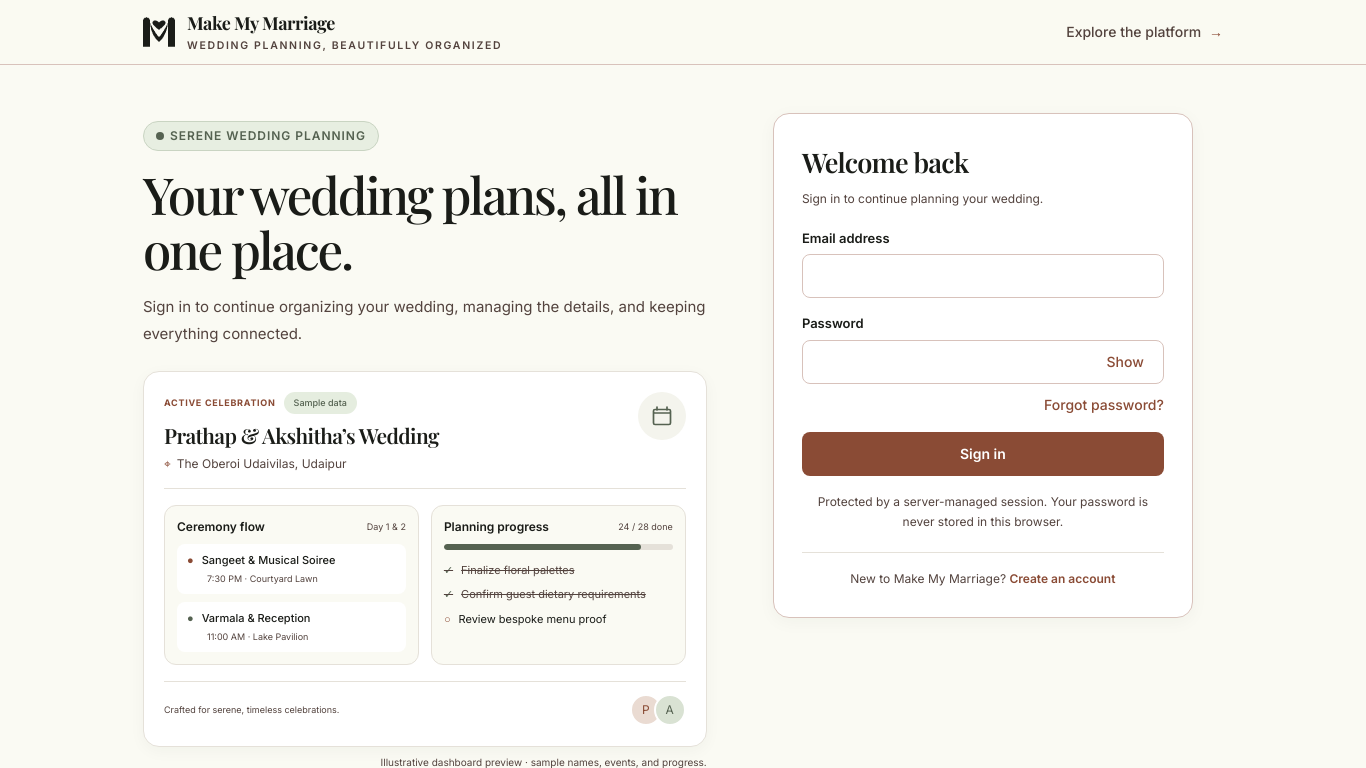
it: authentication screens › validates login fields accessibly before sending a request
The width and height of the screenshot is (1366, 768).
Click the button "Sign in". click: x=983, y=454
box: [802, 432, 1164, 476]
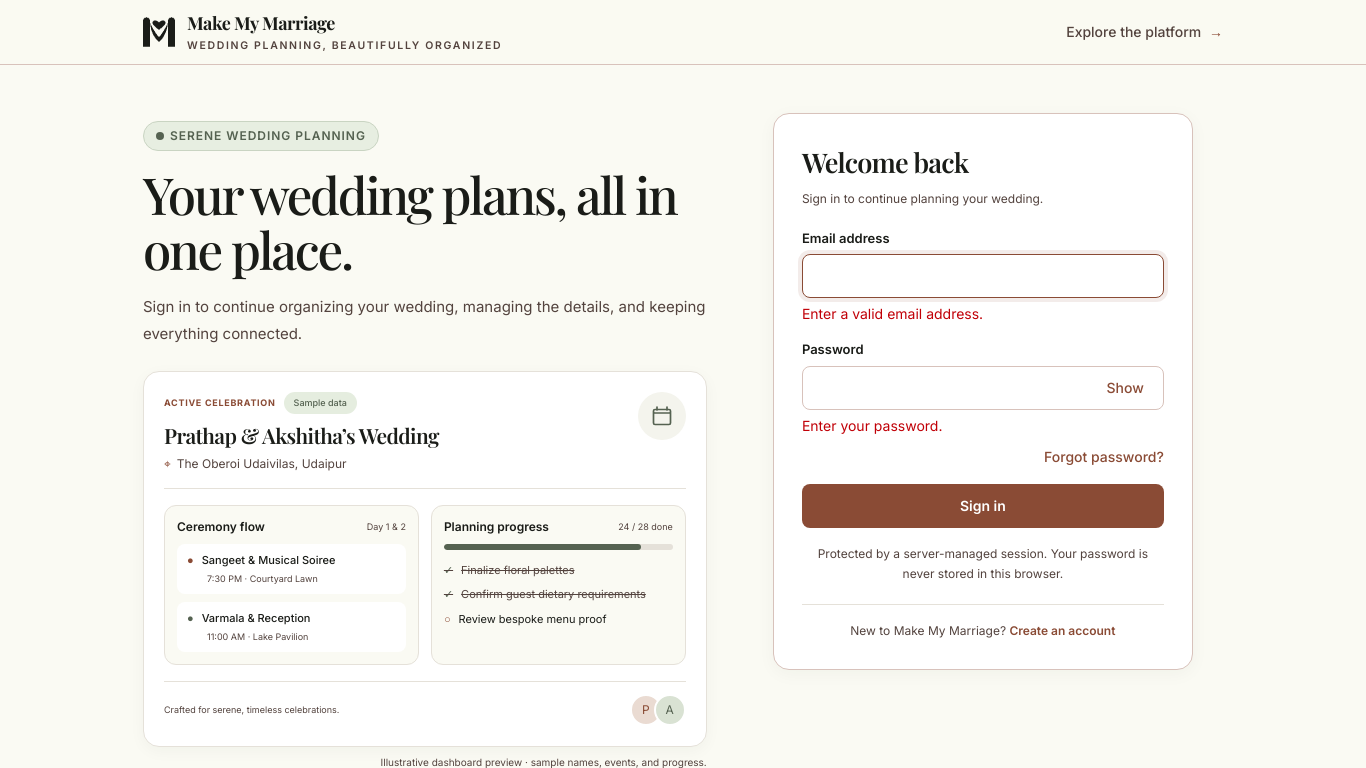
Now the text "Enter a valid email address." is shown, box [802, 305, 983, 322]
Now the text "Enter your password." is shown, box [802, 416, 942, 434]
